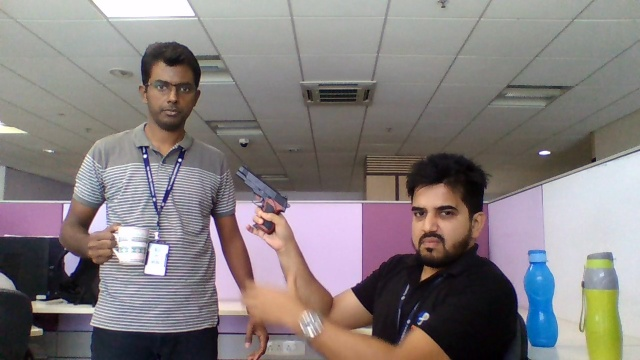gun: (237, 166, 289, 204)
